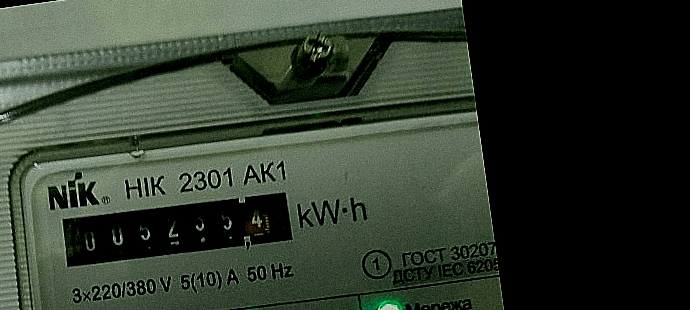0: (79, 226, 99, 254), (108, 221, 125, 247)
2: (162, 212, 179, 239)
3: (190, 207, 207, 233)
4: (247, 203, 265, 230)
5: (134, 216, 153, 244), (216, 204, 235, 232)
screen: (50, 178, 305, 280)
